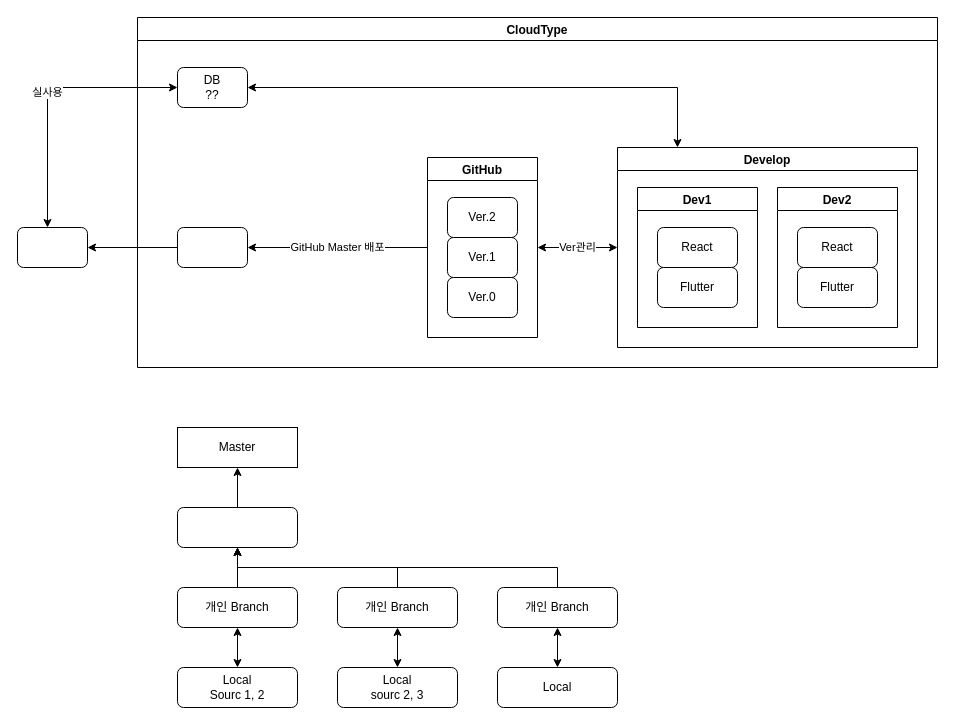
Image size: 955x725. Some labels were removed from this diagram. Here are the shapes that lost their labels. From the top down, the centre of each, then its label:
At [52,247]: "Client".
At [212,247]: "배포".
At [237,527]: "개발 Branch".
